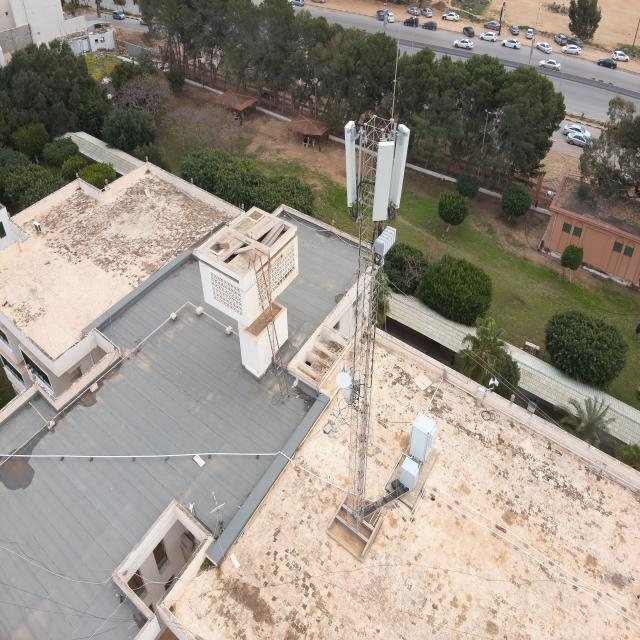antenna: (389, 117, 412, 210), (373, 135, 395, 226), (343, 117, 361, 208)
lighnig-rad: (392, 26, 401, 122)
microware-dish: (336, 360, 355, 389)
power-box: (342, 376, 360, 398)
radio-unit: (375, 223, 397, 255)
